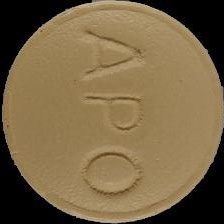42291-846: (0, 0, 224, 224)
